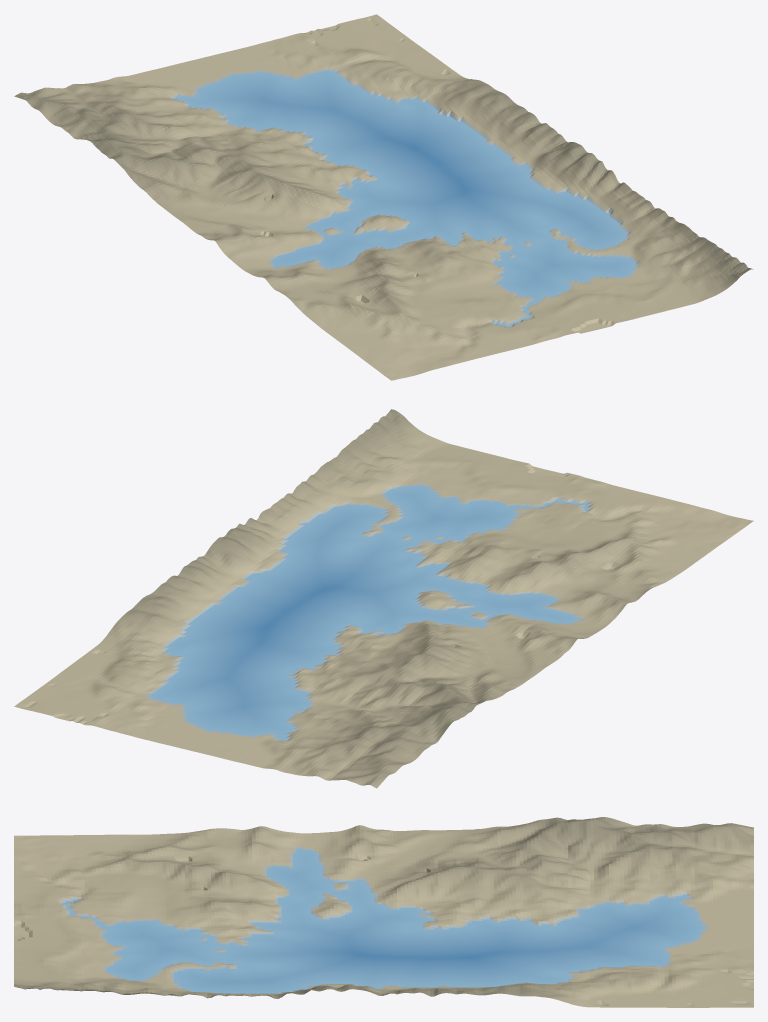
Rendered from flathead_lake_mt.glb.
The picture shows the model from 3 angles, top to bottom: view 1: azimuth 30°, elevation 25°; view 2: azimuth 150°, elevation 25°; view 3: azimuth 270°, elevation 25°; orthographic projection.
Parts seen in each view (by area): view 1: terrain, water; view 2: terrain, water; view 3: terrain, water.
Boxes of the visible parts, left/top/right/bottom form: terrain: left=14, top=14, right=753, bottom=380; water: left=173, top=70, right=636, bottom=327; terrain: left=14, top=409, right=753, bottom=788; water: left=150, top=485, right=588, bottom=740; terrain: left=14, top=817, right=753, bottom=1007; water: left=62, top=848, right=705, bottom=993.
Size of the model in its own units: 29951 by 1906 by 53921.
